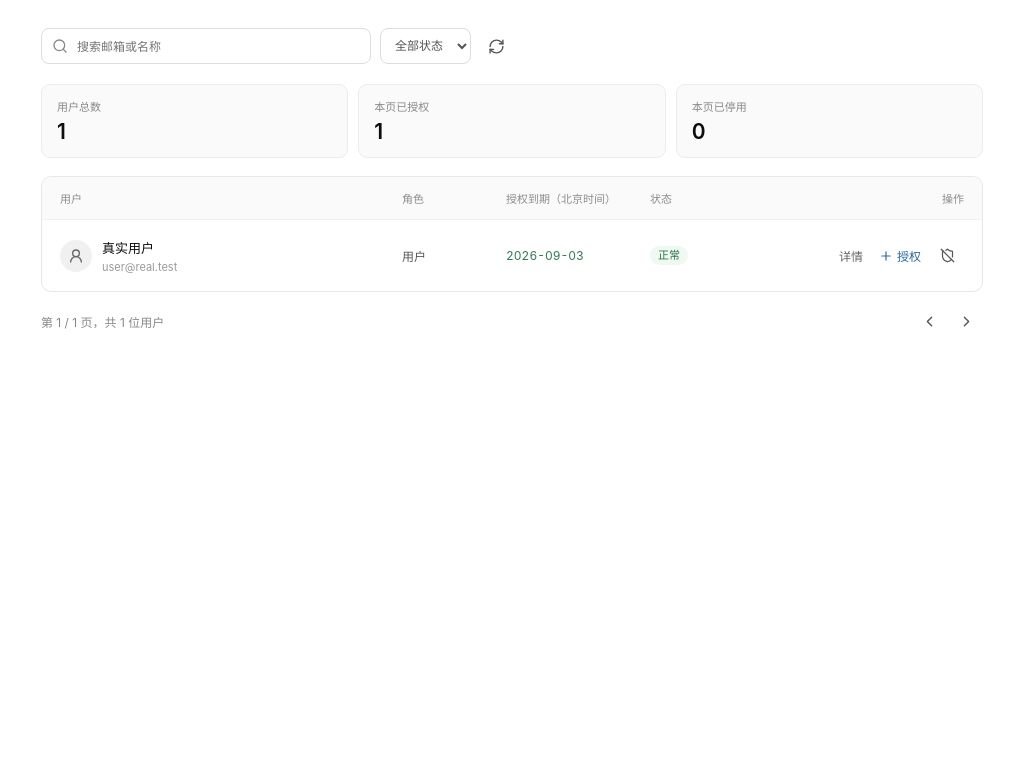
it: AdminUsersPage details › renders entitlement timestamps in Beijing time
Expected: the text "2026-09-03" is shown, top-left (506, 248), bottom-right (584, 263)
Expected: the column heading "授权到期（北京时间）" is shown, top-left (506, 190), bottom-right (616, 206)
Click the button "详情": [851, 256] box top-left (832, 242), bottom-right (870, 270)
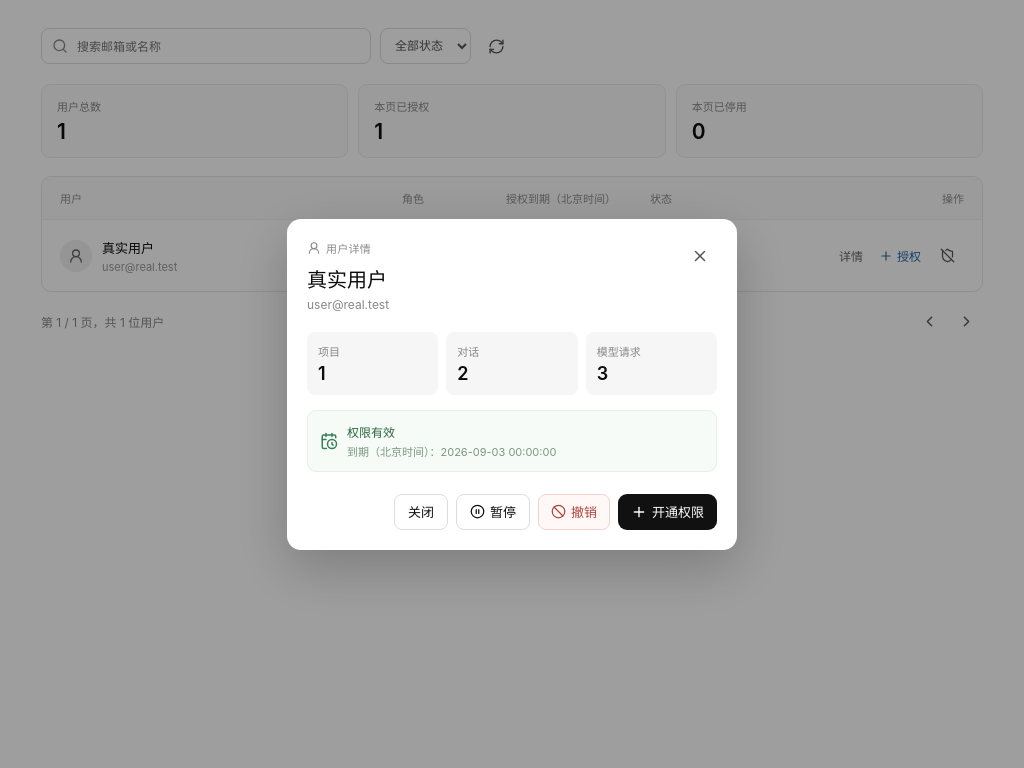
Expected: the text "到期（北京时间）：2026-09-03 00:00:00" is shown, top-left (347, 442), bottom-right (556, 458)
